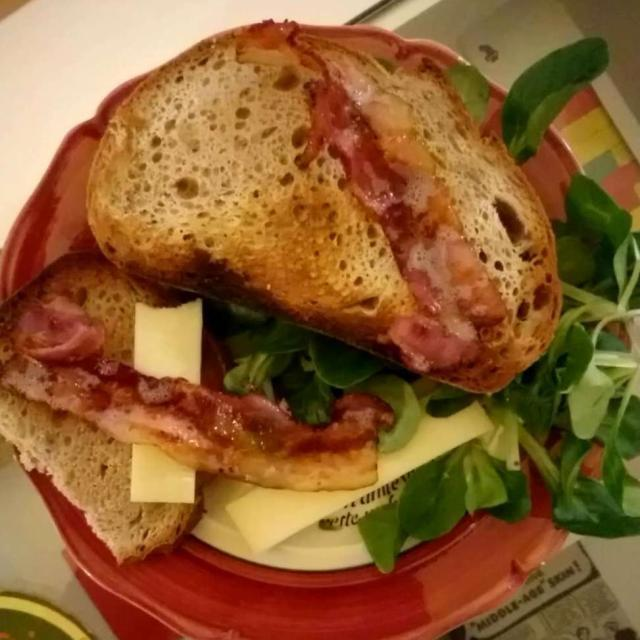bacon: (12, 16, 487, 507)
bread: (9, 21, 558, 570)
gruyere: (127, 299, 498, 557)
salad: (220, 46, 636, 549)
